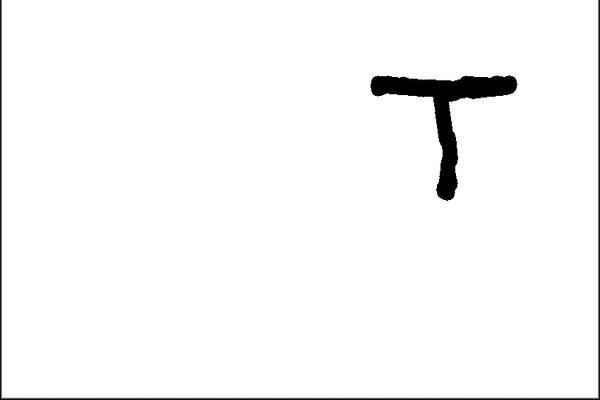T: (363, 68, 522, 204)
